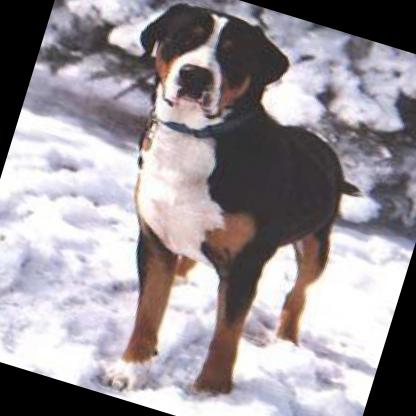Greater_Swiss_Mountain_dog: (38, 0, 389, 416)
